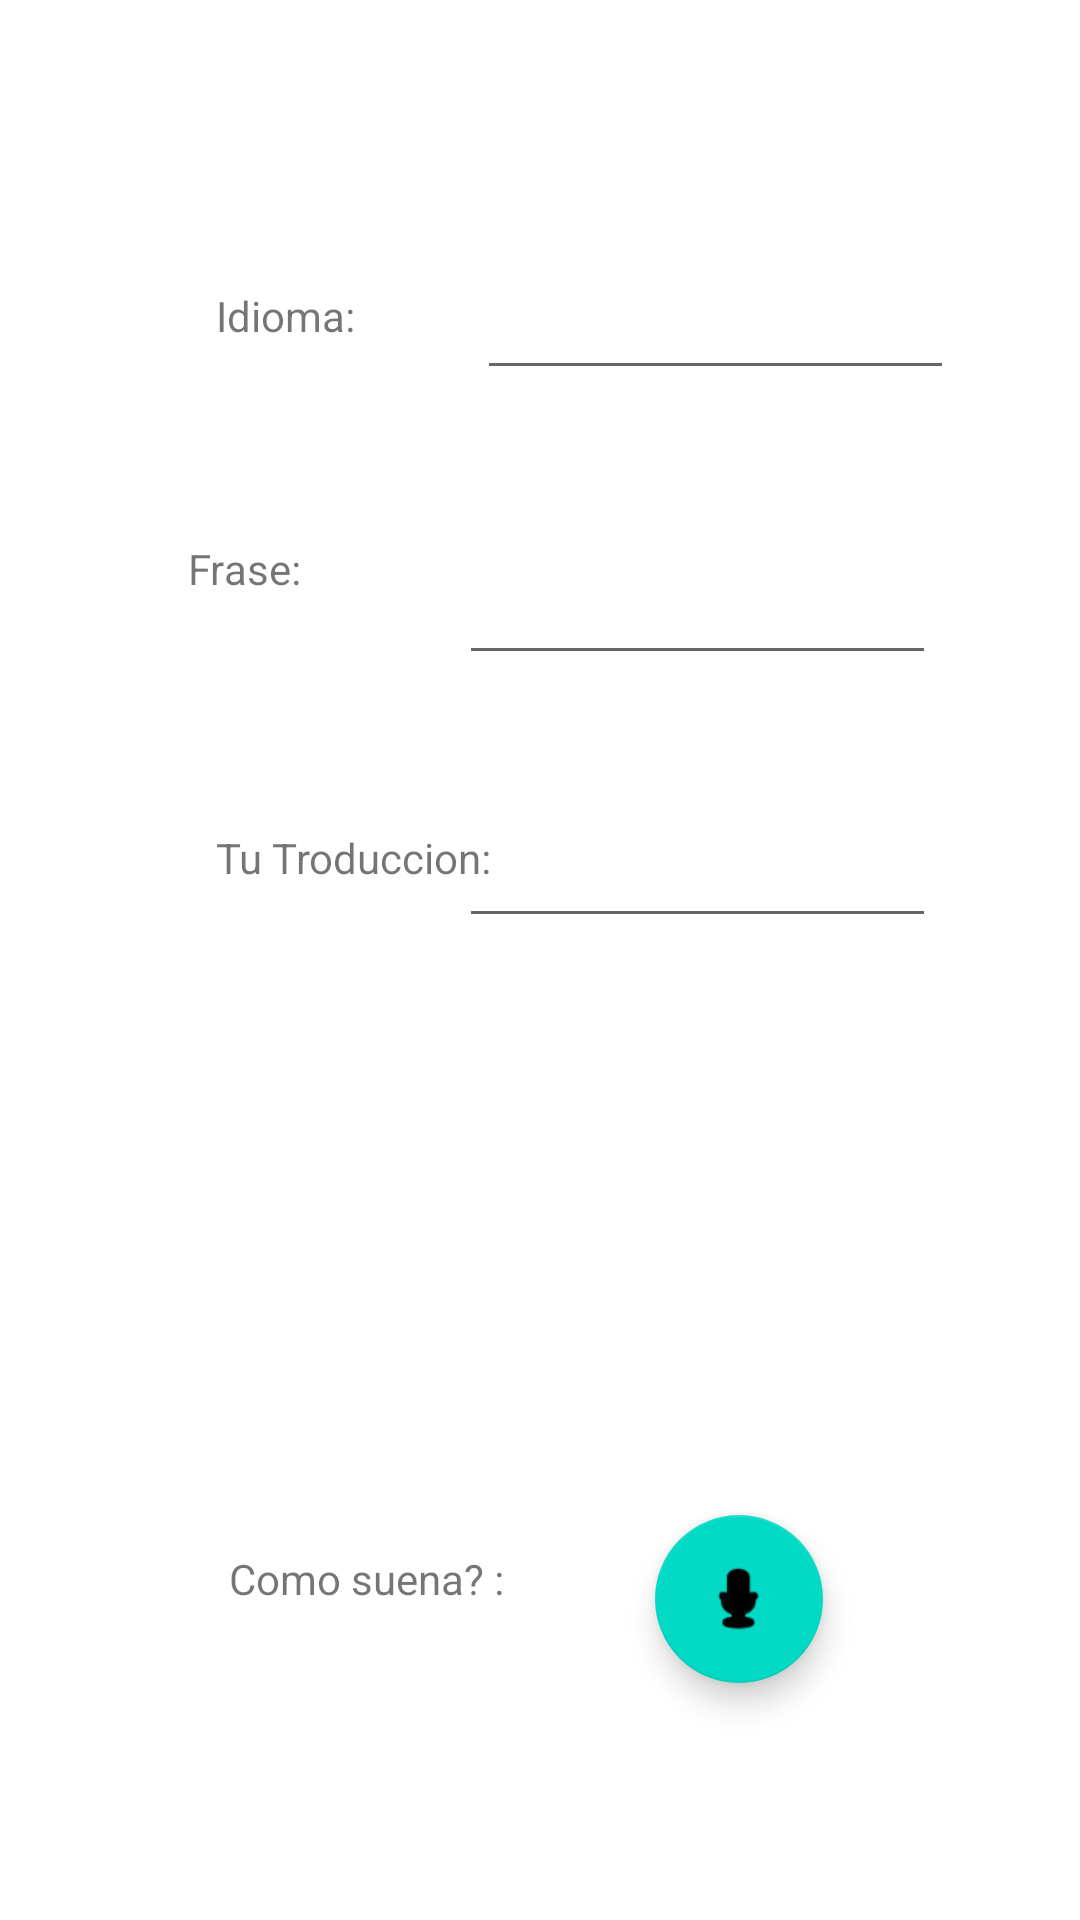

Screen size 1080w x 1920h. Icon name, then its center in pixels as (x,y):
presence audio online: (739,1599)
